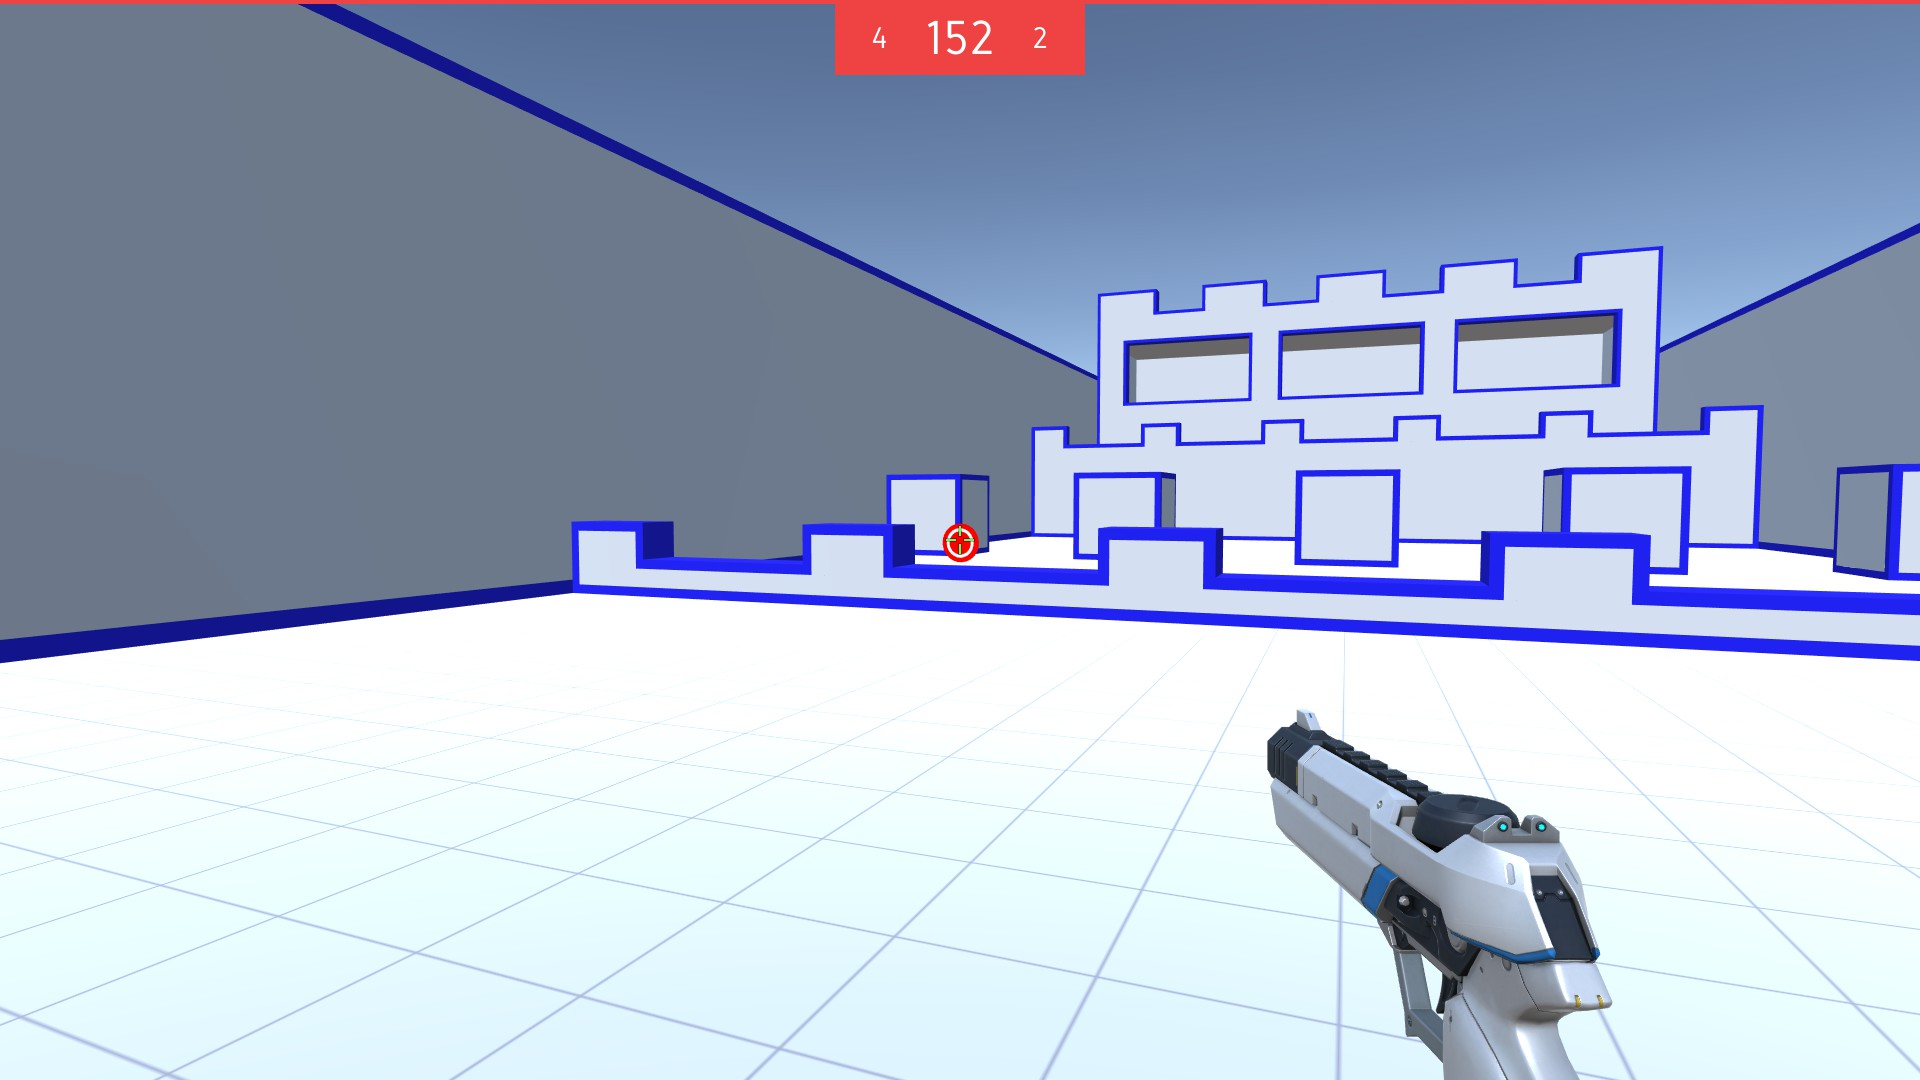target: (942, 524, 980, 563)
